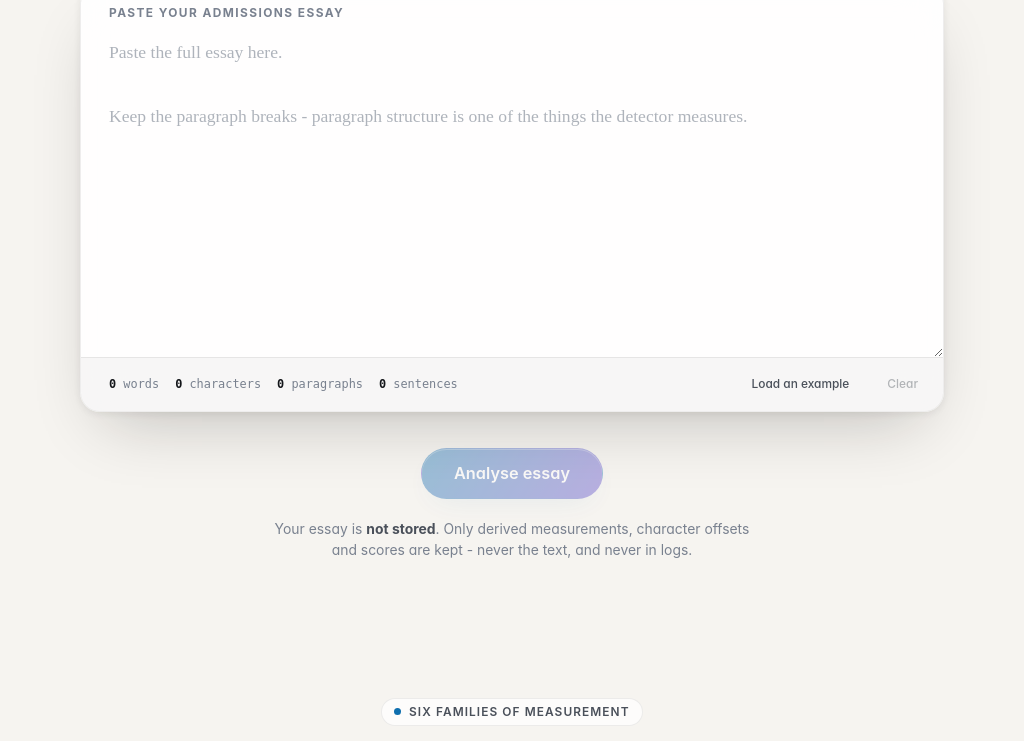
Test: AnalysePage › surfaces a backend error without crashing
(page scrolled)
Click the button "Load an example". click: click(800, 385)
box: [738,370,862,399]
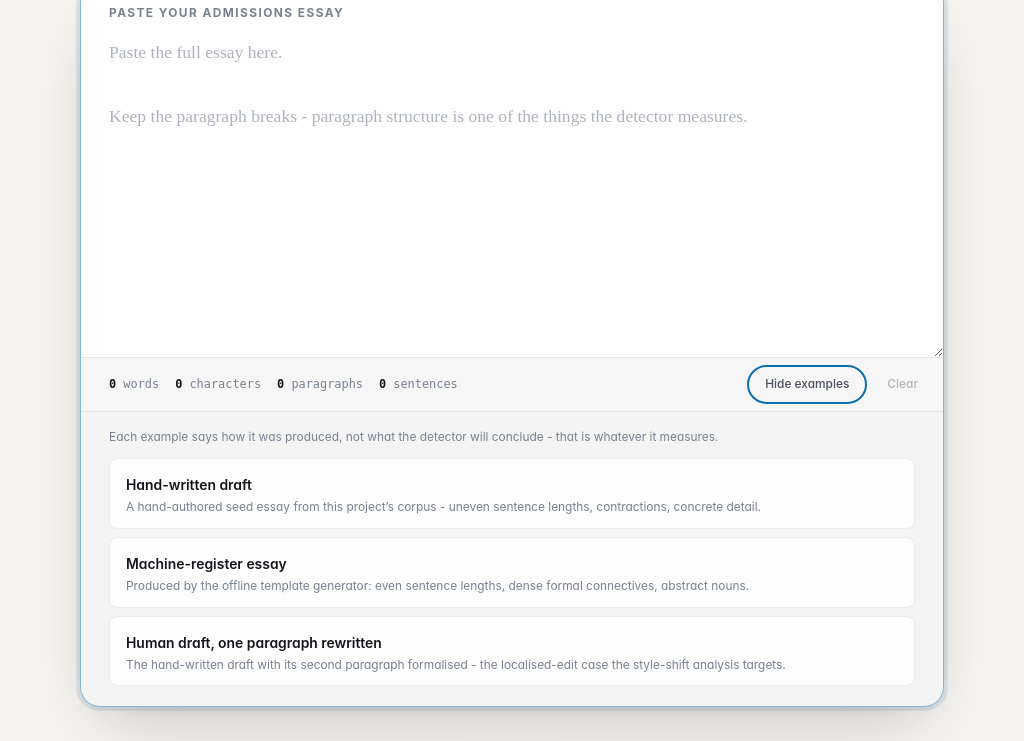
Click the text "Machine-register essay". click: click(206, 564)
box: [126,556,287,572]
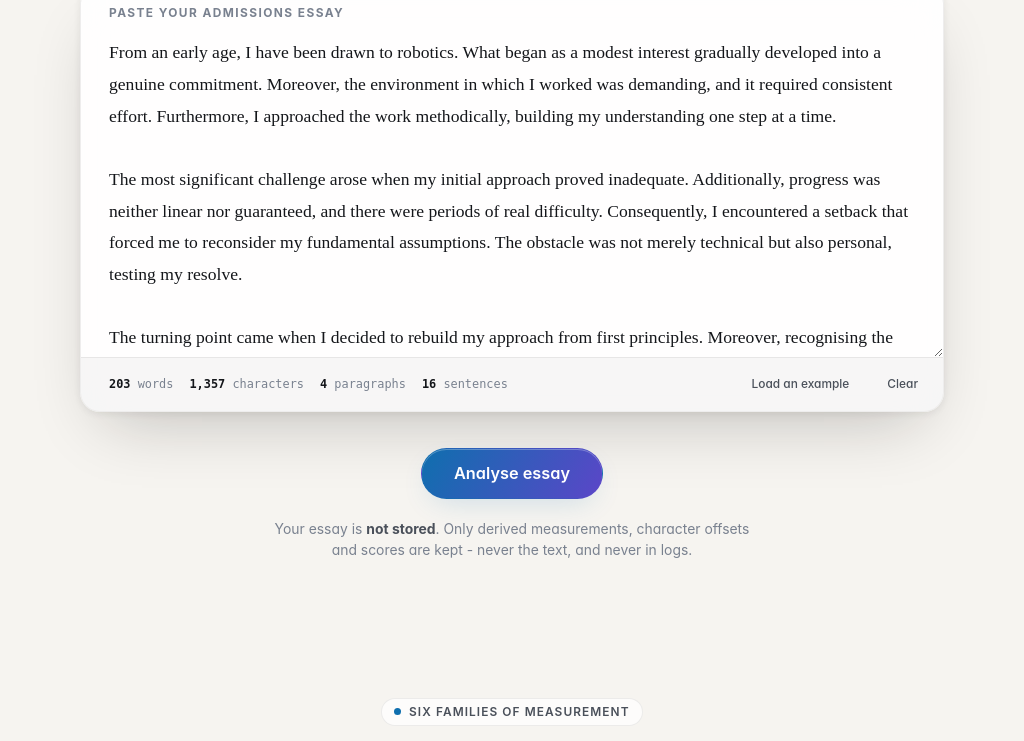
Click the button "Analyse essay". click: click(512, 473)
box: [421,448,603,499]
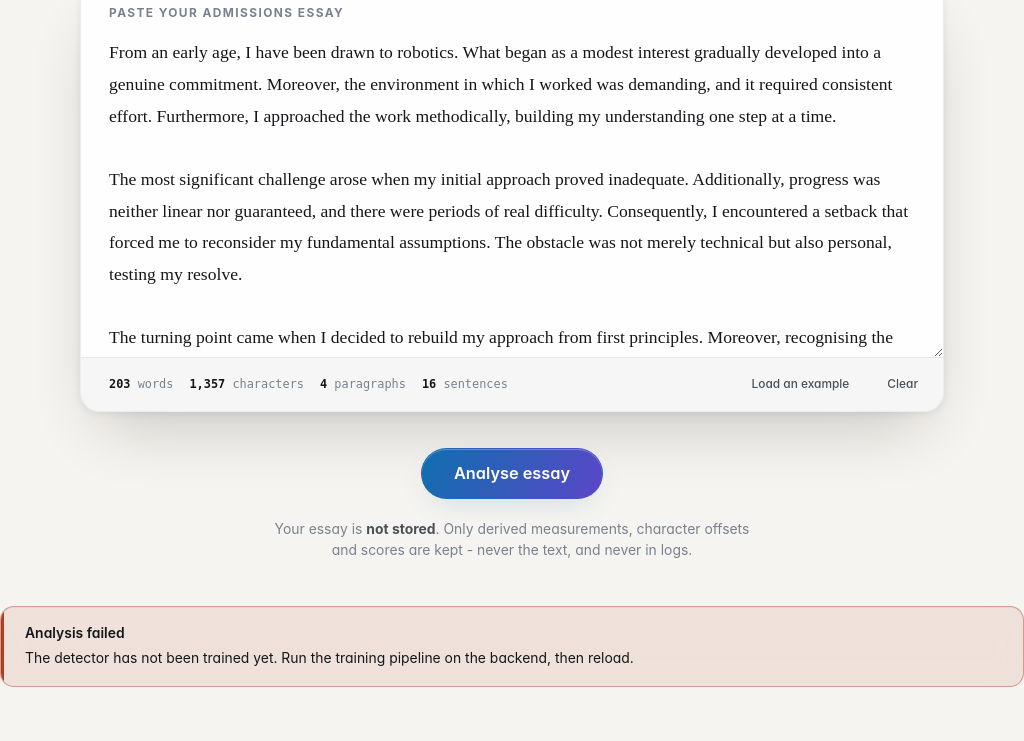
expect the text "Analysis failed" is shown: met, box [25,624,125,640]
expect the text "has not been trained" is shown: met, box [25,650,634,666]
